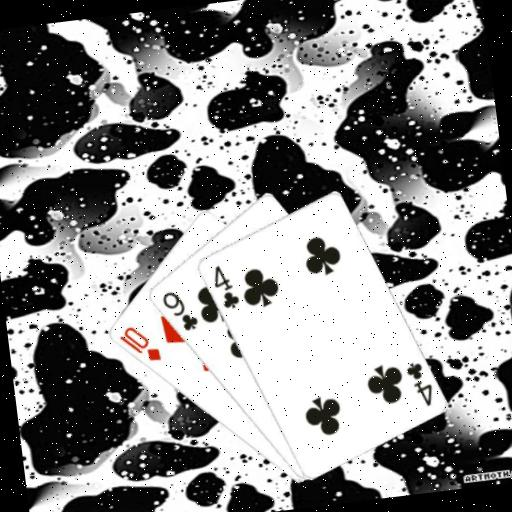10D: (115, 321, 163, 368)
4C: (402, 356, 436, 410), (209, 260, 242, 312)
9C: (158, 286, 201, 336)
